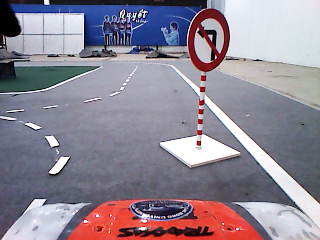ban: (187, 7, 231, 73)
